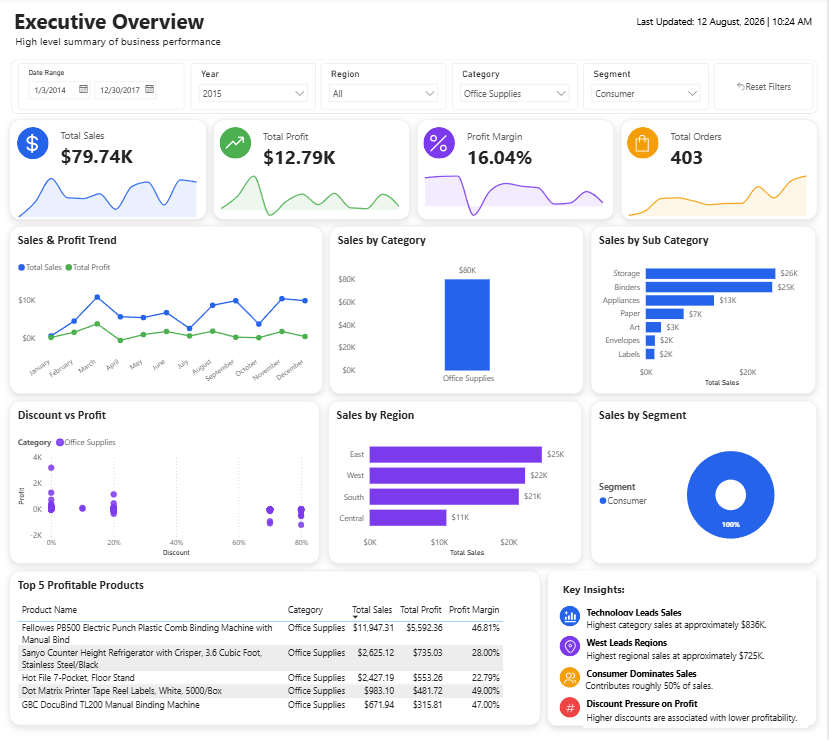

The dashboard page shown, as its layout file describes it:
{"tool":"powerbi","page":{"name":"Executive Overview","canvas":[1280,1150],"ordinal":0},"visuals":[{"type":"shape","box":[19,188,304,154],"z":0,"group":"g2"},{"type":"shape","box":[333,188,303,154],"z":0,"group":"g4"},{"type":"shape","box":[647,188,303,154],"z":0,"group":"g5"},{"type":"shape","box":[961,188,303,154],"z":0,"group":"g6"},{"type":"lineChart","title":"Sales & Profit Trend","fields":{"Category":["Calendar.Month"],"Y":["Superstore.Total Sales","Superstore.Total Profit"]},"box":[19,353,483,259],"z":0},{"type":"cardVisual","fields":{"Data":["Superstore.Total Sales"]},"box":[80,197,208,69],"z":1000,"group":"g2"},{"type":"cardVisual","fields":{"Data":["Superstore.Total Profit"]},"box":[393,199,207.9,69],"z":1000,"group":"g4"},{"type":"cardVisual","fields":{"Data":["Superstore.Profit Margin"]},"box":[707,199,207.9,69],"z":1000,"group":"g5"},{"type":"cardVisual","fields":{"Data":["Superstore.Total Orders"]},"box":[1021,199,207.9,69],"z":1000,"group":"g6"},{"type":"columnChart","title":"Sales by Category","fields":{"Y":["Superstore.Total Sales"],"Category":["Superstore.Category"]},"box":[512,353,392,259],"z":1000},{"type":"areaChart","fields":{"Category":["Calendar.Month"],"Y":["Superstore.Total Profit"]},"box":[332,261.3,303,80.7],"z":2000,"group":"g4"},{"type":"areaChart","fields":{"Category":["Calendar.Month"],"Y":["Superstore.Profit Margin"]},"box":[646,261.3,303,80.7],"z":2000,"group":"g5"},{"type":"areaChart","fields":{"Category":["Calendar.Month"],"Y":["Superstore.Total Orders"]},"box":[960,261.3,303,80.7],"z":2000,"group":"g6"},{"type":"areaChart","fields":{"Y":["Superstore.Total Sales"],"Category":["Calendar.Month"]},"box":[19,265,303,79],"z":2000,"group":"g2"},{"type":"clusteredBarChart","title":"Sales by Sub Category","fields":{"Y":["Superstore.Total Sales"],"Category":["Superstore.Sub-Category"]},"box":[916,353,347,259],"z":2000},{"type":"scatterChart","title":"Discount vs Profit","fields":{"X":["Superstore.Discount"],"Y":["Superstore.Profit"],"Series":["Superstore.Category"]},"box":[18.6,622.9,478.6,251.4],"z":3000},{"type":"clusteredBarChart","title":"Sales by Region","fields":{"Y":["Superstore.Total Sales"],"Category":["Superstore.Region"]},"box":[511.4,622.9,391.4,251.4],"z":4000},{"type":"donutChart","title":"Sales by Segment","fields":{"Y":["Superstore.Total Sales"],"Category":["Superstore.Segment"]},"box":[915.7,622.9,348.6,251.4],"z":5000},{"type":"tableEx","title":"Top 5 Profitable Products","fields":{"Values":["Superstore.Product Name","Superstore.Category","Superstore.Total Sales","Superstore.Total Profit","Superstore.Profit Margin"]},"box":[18.8,885,818.8,238.8],"z":6000},{"type":"group","id":"g1","title":"Group 2","box":[21,96,1243.7,83.7],"z":7000},{"type":"group","id":"g2","title":"Group 1","box":[19,188,304,156],"z":7000,"group":"g3"},{"type":"shape","box":[21,96,1243.8,83.8],"z":8000,"group":"g1"},{"type":"group","id":"g3","title":"Group 4","box":[19,188,304,156],"z":8000},{"type":"group","id":"g4","title":"Group 4","box":[332,188,304,154],"z":9000},{"type":"shape","box":[344.4,199,49,49],"z":9000,"group":"g7"},{"type":"shape","box":[658.4,199,49,49],"z":9000,"group":"g8"},{"type":"shape","box":[972.4,199,49,49],"z":9000,"group":"g9"},{"type":"shape","box":[31,199.8,49,49.8],"z":9000,"group":"g10"},{"type":"shape","box":[868.1,937.7,31.9,31.9],"z":9000,"group":"g11"},{"type":"shape","box":[868.1,985.1,31.9,31.9],"z":9000,"group":"g12"},{"type":"shape","box":[868.1,1032.5,31.9,31.9],"z":9000,"group":"g13"},{"type":"shape","box":[868.1,1080,31.9,31.9],"z":9000,"group":"g14"},{"type":"textbox","box":[22,10,329,59],"z":10000},{"type":"slicer","fields":{"Values":["Calendar.Year"]},"box":[298.2,102.1,193,71],"z":10000,"group":"g1"},{"type":"textbox","box":[23,52,340.9,33.6],"z":11000},{"type":"slicer","fields":{"Values":["Superstore.Region"]},"box":[499.6,102.5,193.3,71.3],"z":11000,"group":"g1"},{"type":"textbox","box":[981,23,281,34],"z":12000},{"type":"slicer","fields":{"Values":["Superstore.Category"]},"box":[701.6,102.5,193.3,71.3],"z":12000,"group":"g1"},{"type":"slicer","fields":{"Values":["Superstore.Segment"]},"box":[903.6,102.5,193.3,71.3],"z":13000,"group":"g1"},{"type":"group","id":"g5","title":"Group 4","box":[646,188,304,154],"z":13000},{"type":"slicer","fields":{"Values":["Calendar.Date"]},"box":[33.2,102.1,256,71],"z":14000,"group":"g1"},{"type":"group","id":"g6","title":"Group 4","box":[960,188,304,154],"z":14000},{"type":"actionButton","box":[1104.9,102.5,152,71.3],"z":15000,"group":"g1"},{"type":"shape","box":[849.8,885,412.5,238.8],"z":15000},{"type":"image","box":[348.9,206.9,39.3,34.8],"z":15002,"group":"g7"},{"type":"image","box":[662.9,206.9,39.3,34.8],"z":15002,"group":"g8"},{"type":"image","box":[976.9,206.9,39.3,34.8],"z":15002,"group":"g9"},{"type":"image","box":[35.5,207.8,39.3,35.3],"z":15002,"group":"g10"},{"type":"image","box":[915.5,684.9,39.3,6],"z":15002,"group":"g15"},{"type":"image","box":[871,942.8,25.6,22.6],"z":15002,"group":"g11"},{"type":"image","box":[871,990.2,25.6,22.6],"z":15002,"group":"g12"},{"type":"image","box":[871,1037.6,25.6,22.6],"z":15002,"group":"g13"},{"type":"image","box":[871,1085.1,25.6,22.6],"z":15002,"group":"g14"},{"type":"group","id":"g7","title":"Group 3","box":[344.4,199,49,49],"z":15003,"group":"g4"},{"type":"group","id":"g8","title":"Group 3","box":[658.4,199,49,49],"z":15003,"group":"g5"},{"type":"group","id":"g9","title":"Group 3","box":[972.4,199,49,49],"z":15003,"group":"g6"},{"type":"group","id":"g10","title":"Group 3","box":[31,199.8,49,49.8],"z":15003,"group":"g3"},{"type":"textbox","box":[867.8,896,106,34],"z":16000},{"type":"group","id":"g11","title":"Group 3","box":[868.1,937.7,31.7,31.7],"z":16000,"group":"g16"},{"type":"group","id":"g12","title":"Group 3","box":[868.1,985.1,31.7,31.7],"z":16000,"group":"g17"},{"type":"group","id":"g13","title":"Group 3","box":[868.1,1032.5,31.7,31.7],"z":16000,"group":"g18"},{"type":"group","id":"g14","title":"Group 3","box":[868.1,1080,31.7,31.7],"z":16000,"group":"g19"},{"type":"group","id":"g15","title":"Group 3","box":[915.5,684.9,39.3,6],"z":17000},{"type":"group","id":"g16","title":"Group 5","box":[868.1,934.1,381.2,49.9],"z":18000},{"type":"textbox","box":[905.4,934.1,170.9,34.5],"z":18000,"group":"g16"},{"type":"textbox","box":[904.5,981.8,154.5,34.5],"z":18000,"group":"g17"},{"type":"textbox","box":[905.4,1029,188.2,34.5],"z":18000,"group":"g18"},{"type":"textbox","box":[905.4,1075.3,196.4,35.5],"z":18000,"group":"g19"},{"type":"group","id":"g17","title":"Group 5","box":[868.1,981.8,369.6,50.3],"z":19000},{"type":"textbox","box":[904.3,954,345,30],"z":20000,"group":"g16"},{"type":"textbox","box":[903.9,1002.1,333.8,30],"z":20000,"group":"g17"},{"type":"group","id":"g18","title":"Group 5","box":[868.1,1029,385.2,50],"z":20000},{"type":"textbox","box":[903.3,1049,350,30],"z":20000,"group":"g18"},{"type":"textbox","box":[904.3,1096.2,346.2,30],"z":20000,"group":"g19"},{"type":"group","id":"g19","title":"Group 5","box":[868.1,1075.3,382.5,50.9],"z":21000}]}

Visuals, with their boxes in screenshot pixels (x1, y1, x2, y2), scaled from the page's 1280x1150 canvas onto the 829x740 screenshot:
shape: 12 121 209 220
shape: 216 121 412 220
shape: 419 121 615 220
shape: 622 121 819 220
"Sales & Profit Trend" lineChart: 12 227 325 394
cardVisual - Superstore.Total Sales: 52 127 187 171
cardVisual - Superstore.Total Profit: 255 128 389 172
cardVisual - Superstore.Profit Margin: 458 128 593 172
cardVisual - Superstore.Total Orders: 661 128 796 172
"Sales by Category" columnChart: 332 227 585 394
areaChart - Calendar.Month x Superstore.Total Profit: 215 168 411 220
areaChart - Calendar.Month x Superstore.Profit Margin: 418 168 615 220
areaChart - Calendar.Month x Superstore.Total Orders: 622 168 818 220
areaChart - Superstore.Total Sales x Calendar.Month: 12 171 209 221
"Sales by Sub Category" clusteredBarChart: 593 227 818 394
"Discount vs Profit" scatterChart: 12 401 322 563
"Sales by Region" clusteredBarChart: 331 401 585 563
"Sales by Segment" donutChart: 593 401 819 563
"Top 5 Profitable Products" tableEx: 12 569 542 723
"Group 2" group: 14 62 819 116
"Group 1" group: 12 121 209 221
shape: 14 62 819 116
"Group 4" group: 12 121 209 221
"Group 4" group: 215 121 412 220
shape: 223 128 255 160
shape: 426 128 458 160
shape: 630 128 662 160
shape: 20 129 52 161
shape: 562 603 583 624
shape: 562 634 583 654
shape: 562 664 583 685
shape: 562 695 583 715
textbox: 14 6 227 44
slicer - Calendar.Year: 193 66 318 111
textbox: 15 33 236 55
slicer - Superstore.Region: 324 66 449 112
textbox: 635 15 817 37
slicer - Superstore.Category: 454 66 580 112
slicer - Superstore.Segment: 585 66 710 112
"Group 4" group: 418 121 615 220
slicer - Calendar.Date: 22 66 187 111
"Group 4" group: 622 121 819 220
actionButton: 716 66 814 112
shape: 550 569 818 723
image: 226 133 251 156
image: 429 133 455 156
image: 633 133 658 156
image: 23 134 48 156
image: 593 441 618 445
image: 564 607 581 621
image: 564 637 581 652
image: 564 668 581 682
image: 564 698 581 713
"Group 3" group: 223 128 255 160
"Group 3" group: 426 128 458 160
"Group 3" group: 630 128 662 160
"Group 3" group: 20 129 52 161
textbox: 562 577 631 598
"Group 3" group: 562 603 583 624
"Group 3" group: 562 634 583 654
"Group 3" group: 562 664 583 685
"Group 3" group: 562 695 583 715
"Group 3" group: 593 441 618 445
"Group 5" group: 562 601 809 633
textbox: 586 601 697 623
textbox: 586 632 686 654
textbox: 586 662 708 684
textbox: 586 692 714 715
"Group 5" group: 562 632 802 664
textbox: 586 614 809 633
textbox: 585 645 802 664
"Group 5" group: 562 662 812 694
textbox: 585 675 812 694
textbox: 586 705 810 725
"Group 5" group: 562 692 810 725
